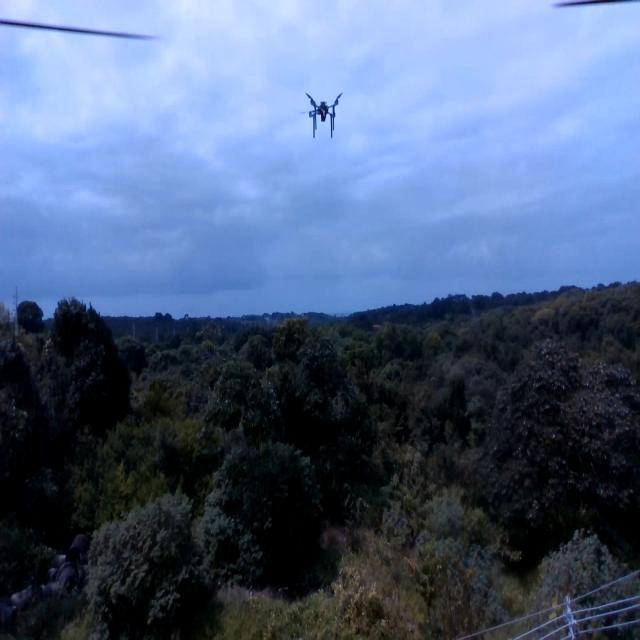-uav-: (298, 82, 347, 144)
